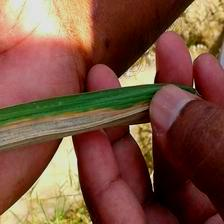2 BacterialBlight: (9, 111, 183, 140)
